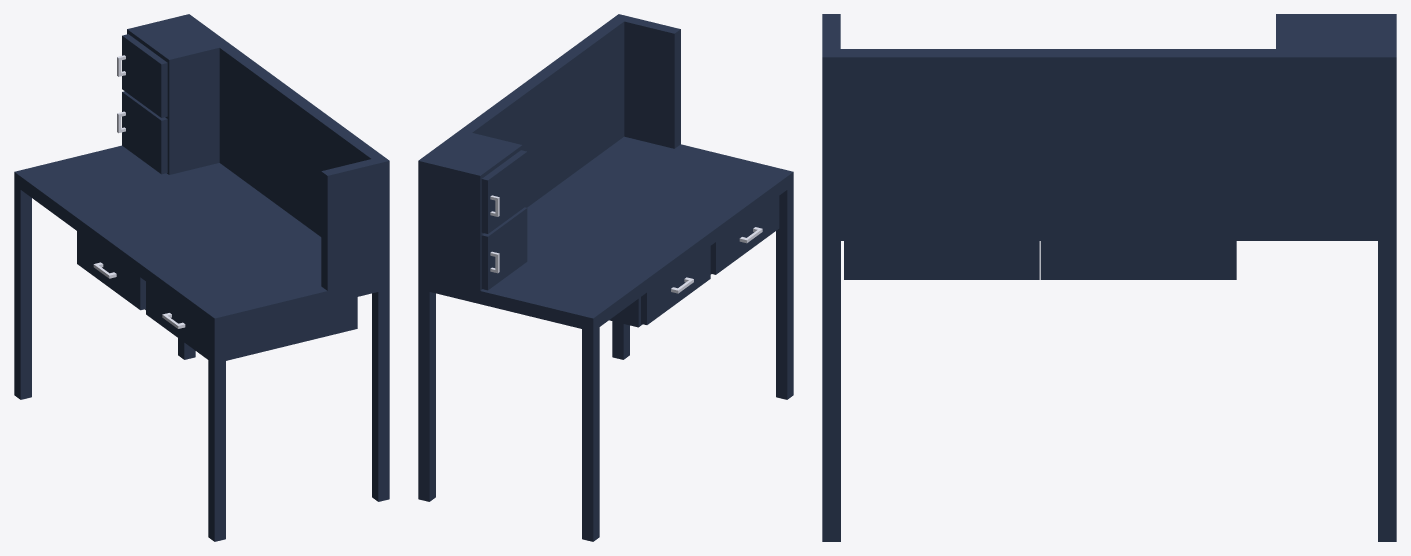
The model's file is DESK.FBX.
The picture shows the model from 3 angles, left to right: view 1: azimuth 30°, elevation 25°; view 2: azimuth 150°, elevation 25°; view 3: azimuth 270°, elevation 25°; orthographic projection. The views are drawn at different scales.
Parts seen in each view (by area): view 1: Box002; view 2: Box002; view 3: Box002.
Boxes of the visible parts, bbox=[...] form: Box002: bbox=[14, 14, 389, 541]; Box002: bbox=[418, 14, 793, 541]; Box002: bbox=[822, 14, 1396, 541].
Bounding box in the file's own units: 44.15 × 80.32 × 86.23.
